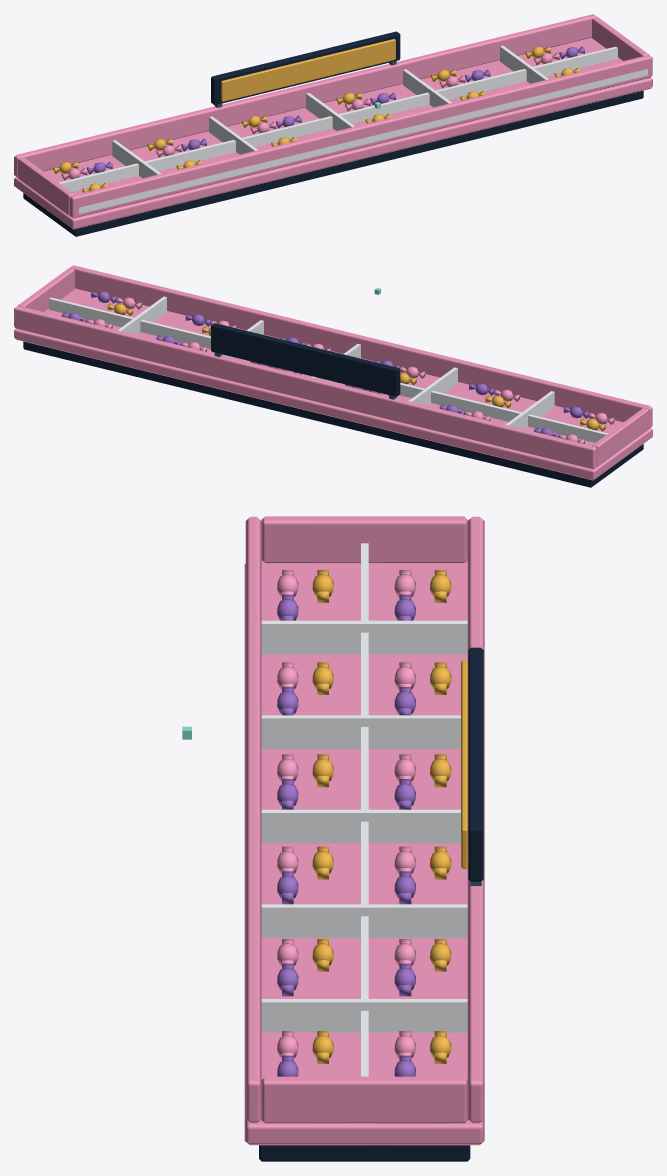
Rendered from CM_Fixture_SnackBin.fbx.
3 views of the same model, one above another, from view 1: azimuth 30°, elevation 25°; view 2: azimuth 150°, elevation 25°; view 3: azimuth 270°, elevation 25° (orthographic). The views are drawn at different scales.
Visible parts, largest first — view 1: Body, PriceTag, Item7, Item11, Item12, Item9, Item8, Item10; view 2: Body, Item1, Item2, Item6, Item3, Item5; view 3: Body, PriceTag, Item10, Item4, Item11, Item9, Item5, Item3, Item8, Item2, Item7, Item1 (+2 smaller).
Part boxes in pixels (x1,y1,x2,y2): Body: [14, 14, 652, 236]; PriceTag: [221, 39, 395, 101]; Item7: [53, 161, 112, 180]; Item11: [430, 69, 490, 88]; Item12: [525, 46, 584, 65]; Item9: [242, 115, 301, 134]; Item8: [147, 138, 206, 157]; Item10: [336, 92, 395, 111]; Body: [14, 265, 652, 487]; Item1: [563, 406, 614, 431]; Item2: [469, 383, 519, 408]; Item6: [91, 291, 141, 315]; Item3: [375, 360, 425, 385]; Item5: [185, 314, 236, 336]; Body: [244, 516, 484, 1161]; PriceTag: [461, 660, 468, 869]; Item10: [394, 846, 451, 904]; Item4: [277, 846, 333, 904]; Item11: [394, 939, 451, 996]; Item9: [394, 754, 451, 809]; Item5: [277, 939, 333, 996]; Item3: [277, 754, 333, 809]; Item8: [394, 662, 451, 715]; Item2: [277, 662, 333, 715]; Item7: [394, 570, 451, 620]; Item1: [277, 570, 333, 620].
Bounding box in the file's own units: 28 × 6.3 × 3.6.
1 material, 1 textured.
